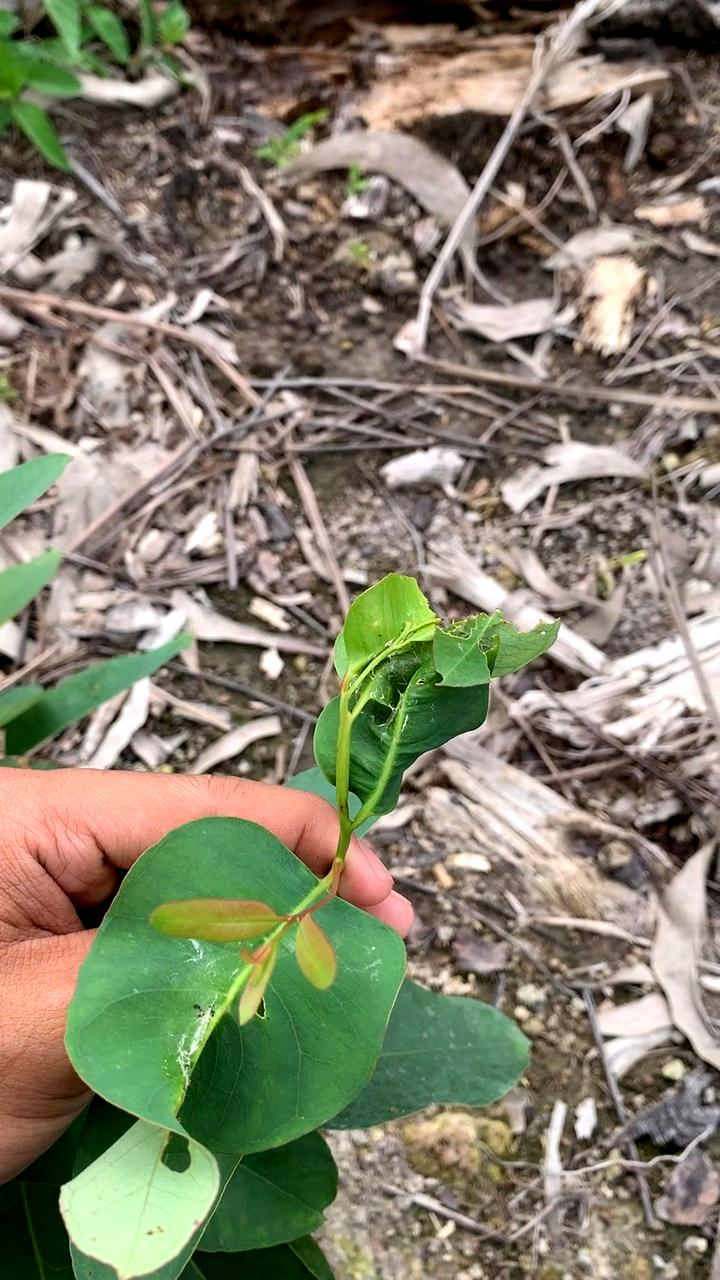Leaf Roller - Leaf: (306, 571, 579, 840)
